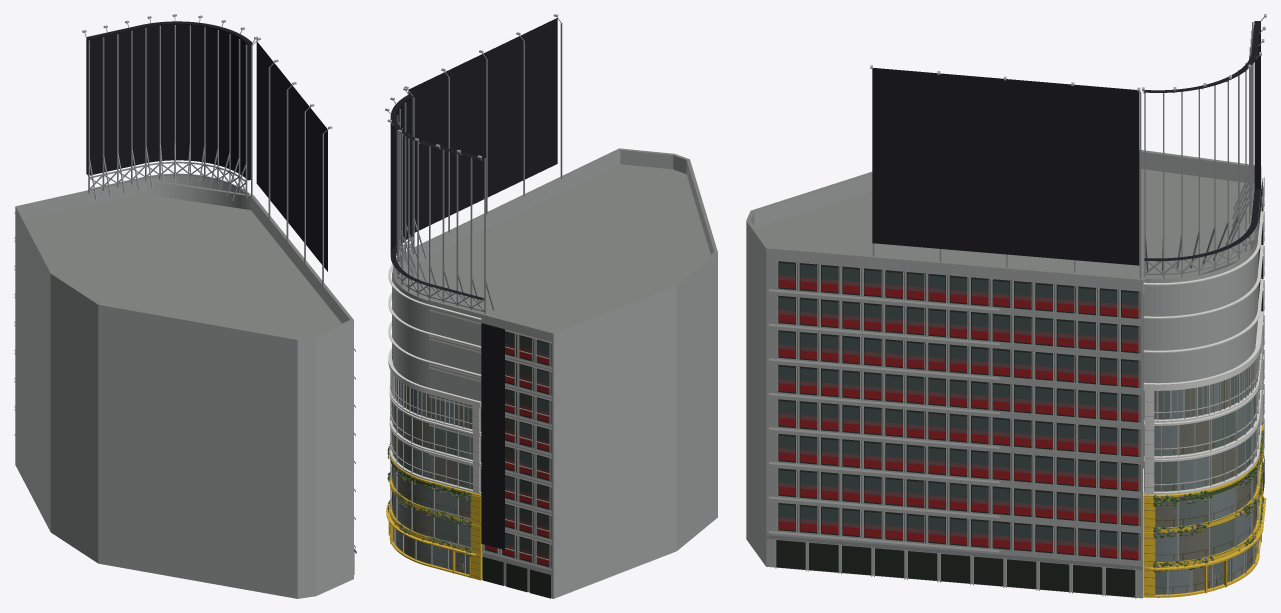
The model's file is ekimae.glb.
3 views of the same model, side by side, from view 1: azimuth 30°, elevation 25°; view 2: azimuth 150°, elevation 25°; view 3: azimuth 270°, elevation 25° (orthographic). The views are drawn at different scales.
Visible parts, largest first — view 1: ek_wall, ek_screen_back, ek_roof, ek_steel; view 2: ek_wall, ek_roof, ek_screen_back, ek_steel, ek_band, ek_silver, ek_reveal, ek_glass, ek_glass_blue, ek_glass_warm, ek_red_frame, ek_gold (+4 smaller); view 3: ek_wall, ek_screen_back, ek_reveal, ek_glass_blue, ek_red_frame, ek_silver, ek_roof, ek_band, ek_shop_glass, ek_steel, ek_glass, ek_glass_warm (+4 smaller).
Part boxes in pixels (x1,y1,x2,y2): ek_wall: [15, 175, 353, 598]; ek_screen_back: [86, 21, 327, 271]; ek_roof: [15, 178, 353, 339]; ek_steel: [84, 17, 356, 553]; ek_wall: [393, 150, 717, 598]; ek_roof: [409, 148, 717, 333]; ek_screen_back: [390, 18, 557, 549]; ek_steel: [388, 17, 562, 488]; ek_band: [388, 264, 552, 570]; ek_silver: [385, 14, 558, 574]; ek_reveal: [392, 267, 551, 567]; ek_glass: [392, 332, 549, 574]; ek_glass_blue: [392, 341, 549, 568]; ek_glass_warm: [392, 336, 549, 572]; ek_red_frame: [485, 343, 549, 565]; ek_gold: [386, 454, 482, 580]; ek_wall: [746, 151, 1261, 598]; ek_screen_back: [872, 21, 1262, 424]; ek_reveal: [778, 178, 1262, 560]; ek_glass_blue: [779, 183, 1262, 594]; ek_red_frame: [778, 275, 1138, 559]; ek_silver: [775, 14, 1266, 598]; ek_roof: [746, 150, 1261, 294]; ek_band: [769, 177, 1264, 552]; ek_shop_glass: [776, 456, 1264, 597]; ek_steel: [765, 17, 1263, 569]; ek_glass: [1154, 204, 1260, 594]; ek_glass_warm: [1154, 193, 1261, 591].
Bounding box in the file's own units: 30.11 × 50.4 × 46.46.
